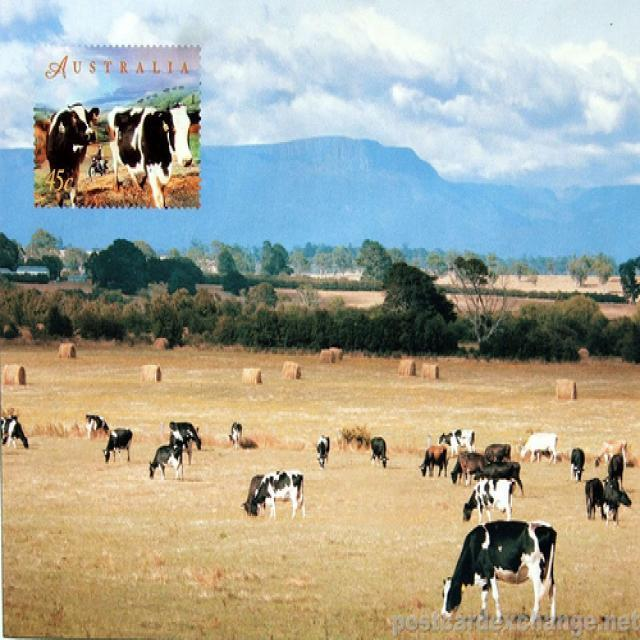cow: (3, 394, 636, 518), (438, 514, 558, 629), (251, 468, 305, 520), (460, 475, 512, 521), (472, 459, 521, 493), (146, 440, 184, 480), (165, 419, 200, 453), (457, 442, 484, 484), (100, 426, 132, 460), (418, 443, 446, 477), (238, 473, 261, 514), (584, 476, 603, 518), (481, 441, 508, 461), (570, 444, 583, 480)
